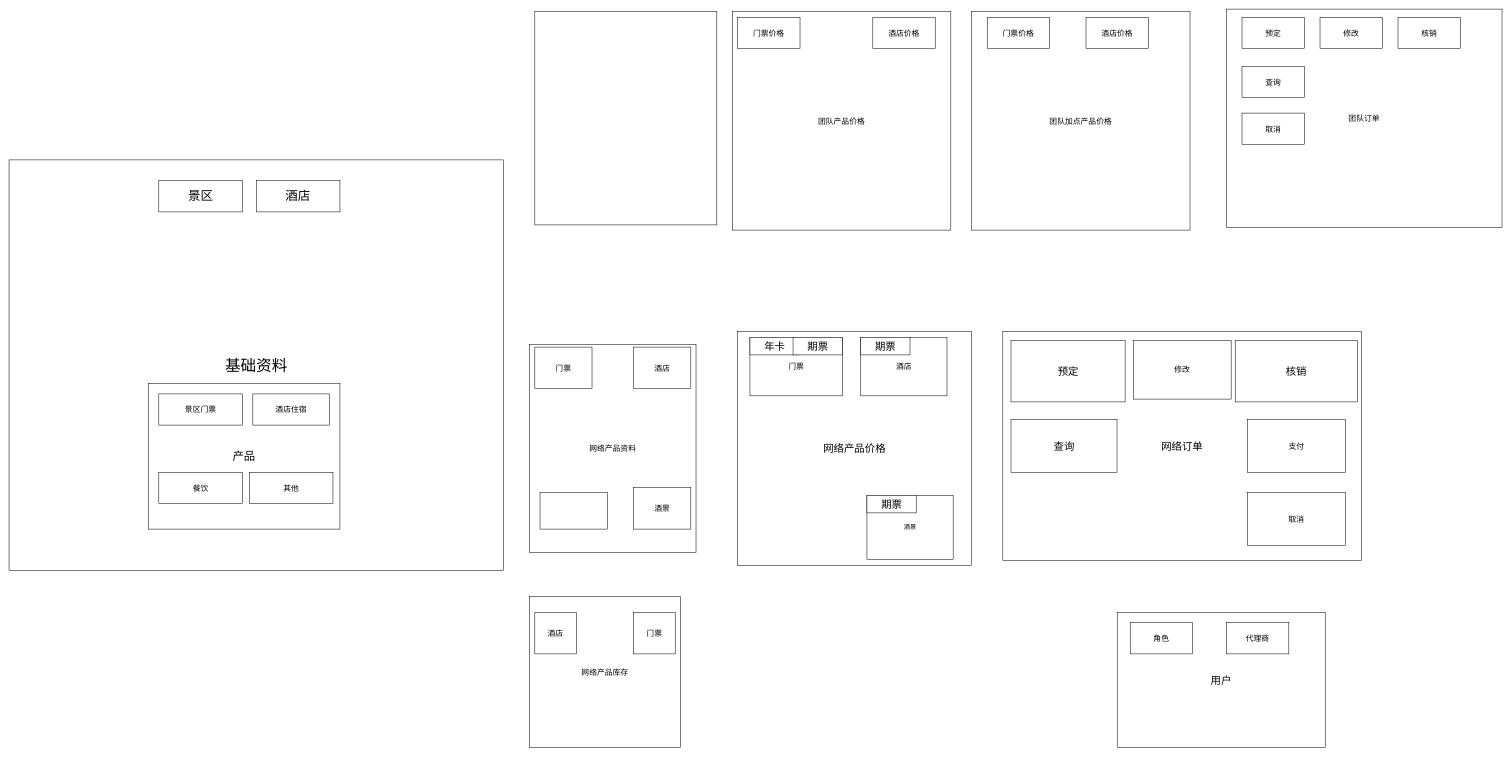
This 1512x757 diagram has some shape labels left out. Here are the shapes that lost their labels. From the top down, the centre of each, then its label:
At [625,118]: "团队产品资料".
At [574,510]: "优惠券".
